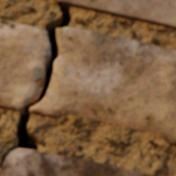brick: (0, 150, 155, 175), (57, 0, 175, 27)
broken_brick: (30, 26, 175, 143), (0, 19, 50, 109)
crack: (0, 2, 73, 173)
